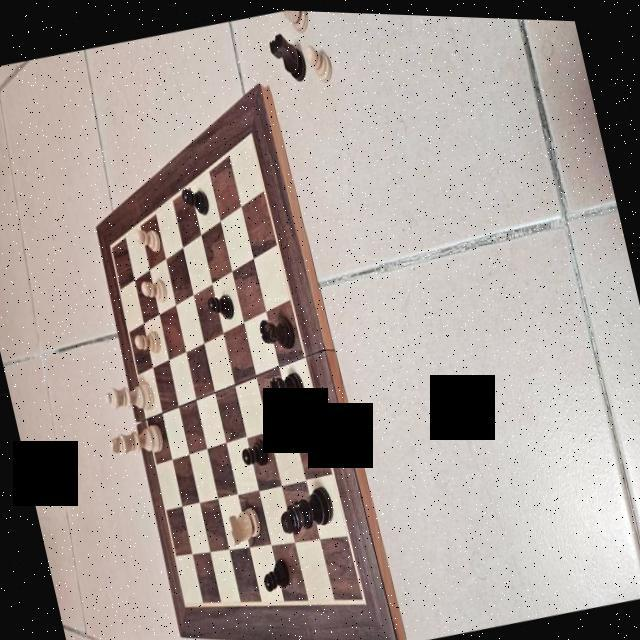chess-table-corners: (245, 124, 257, 146), (356, 590, 368, 608), (106, 239, 115, 253), (180, 597, 188, 611)
